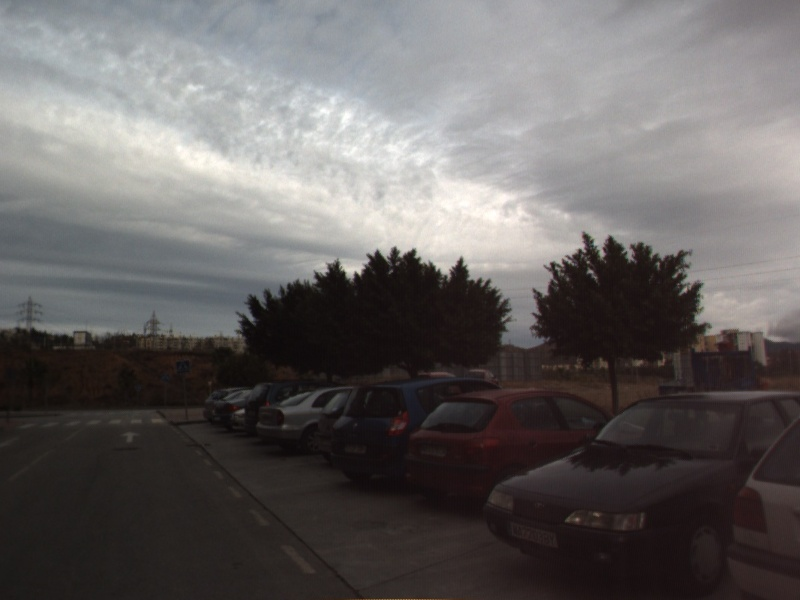STRAIGHT: (118, 429, 143, 445)
